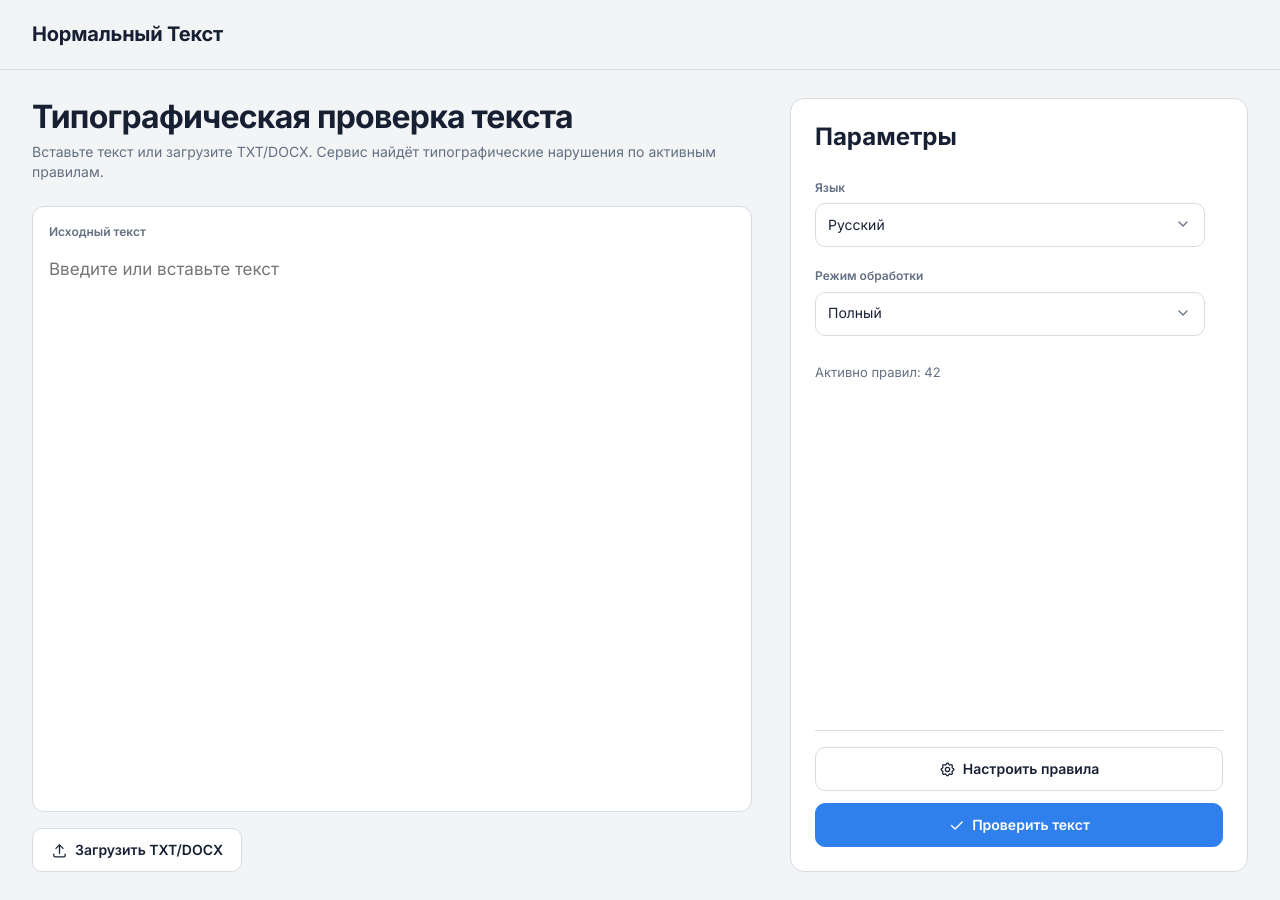
Test: Requirement 1: text validation and processing › already correct text shows the no-changes modal over the editor
The image size is (1280, 900).
Type "Привет." into the text box labelled "Исходный текст".
click(392, 527); type("Привет.")  # box x1=49 y1=257 x2=735 y2=796
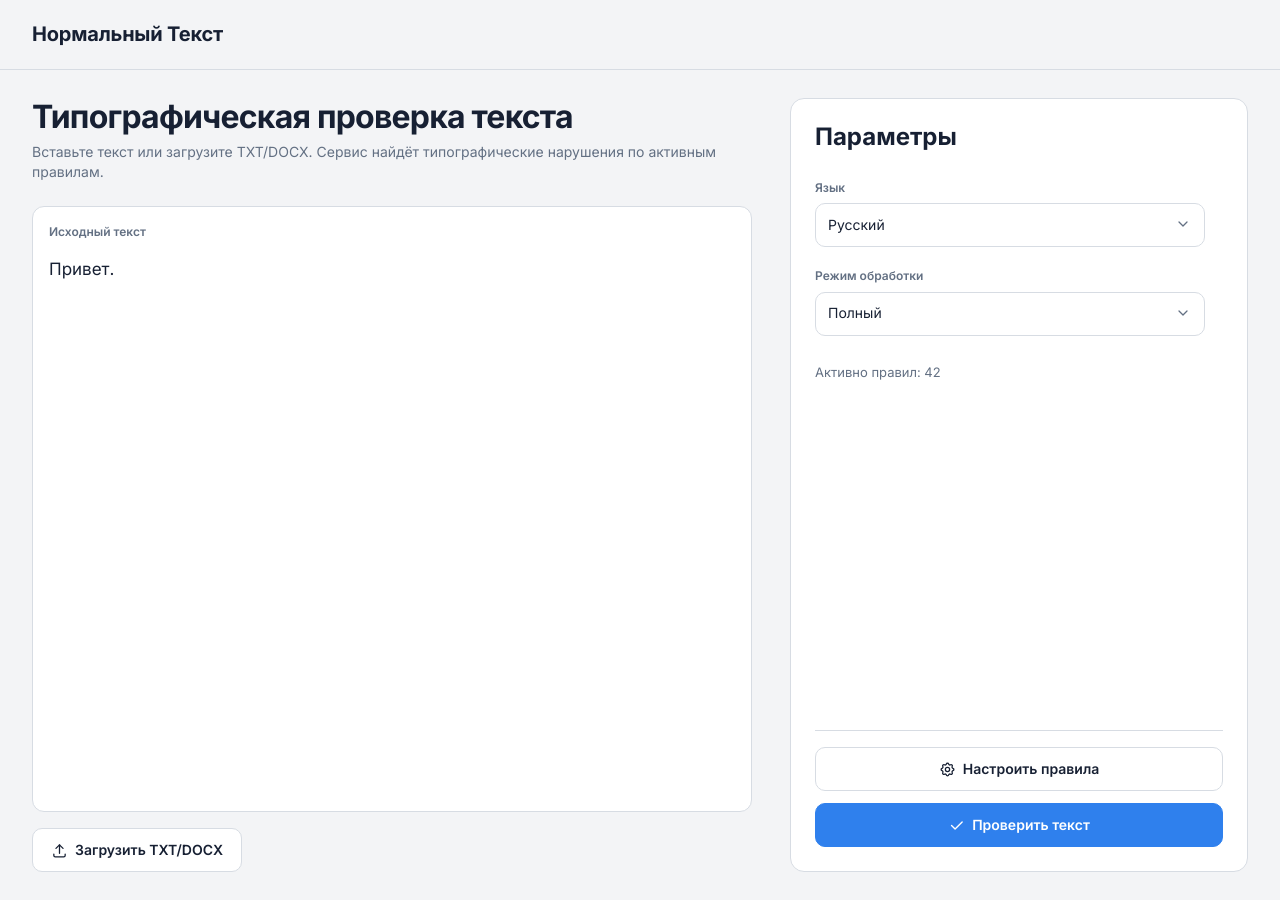
Click the button "Проверить текст".
click(1019, 825)  # box x1=815 y1=803 x2=1223 y2=847
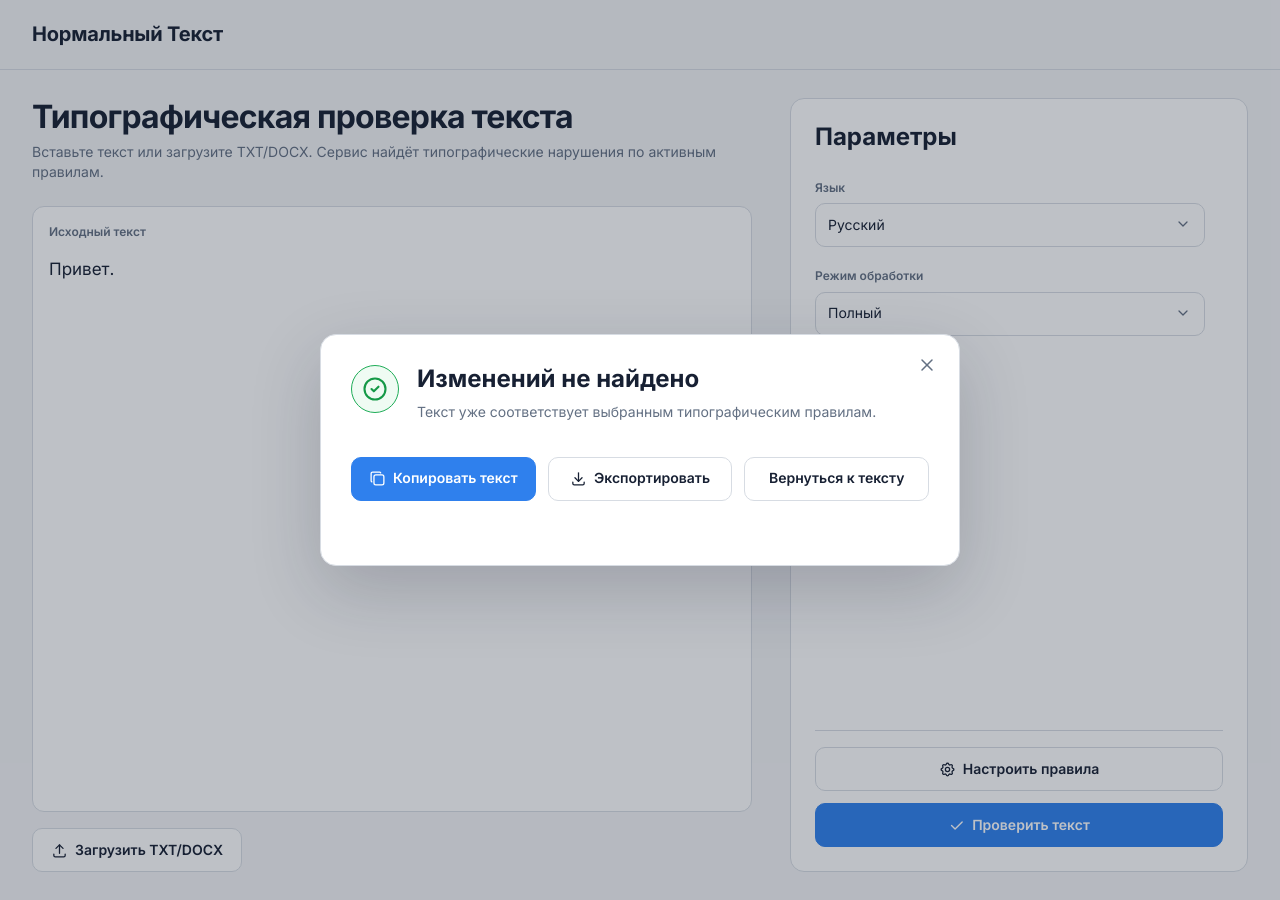
Result: the heading "Изменений не найдено" is shown at x1=417 y1=364 x2=699 y2=394
